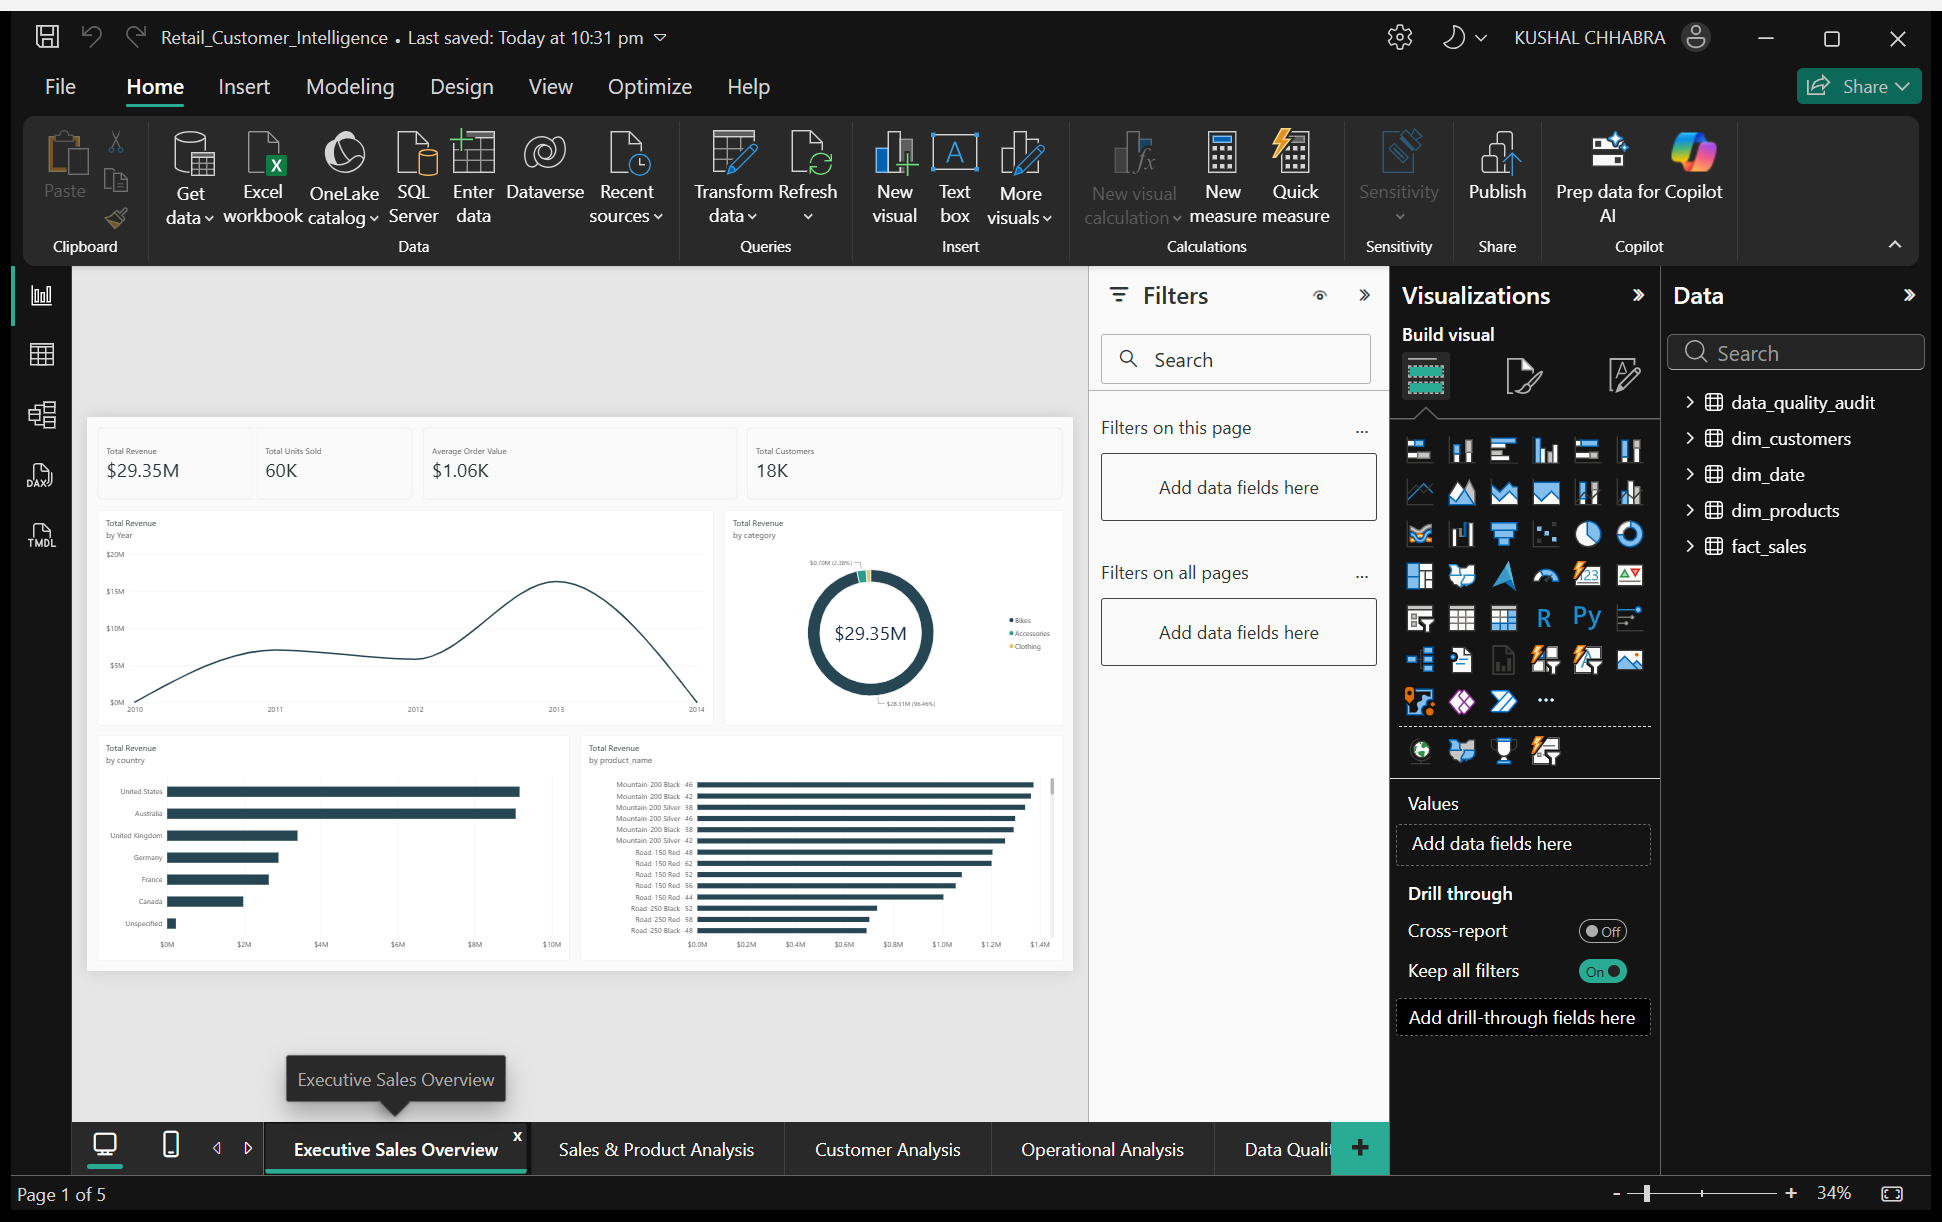

The page's visual inventory and layout, read from the dashboard file:
{"tool":"powerbi","page":{"name":"Executive Sales Overview","canvas":[1920,1080],"ordinal":0},"visuals":[{"type":"cardVisual","fields":{"Data":["fact_sales.Total Revenue","fact_sales.Total Units Sold"]},"box":[20,20,613,140],"z":0},{"type":"cardVisual","fields":{"Data":["fact_sales.Average Order Value"]},"box":[653,20,613,140],"z":1},{"type":"cardVisual","fields":{"Data":["fact_sales.Total Customers"]},"box":[1286,20,614,140],"z":2},{"type":"lineChart","fields":{"Category":["fact_sales.order_date.Variation.Date Hierarchy.Year","fact_sales.order_date.Variation.Date Hierarchy.Quarter","fact_sales.order_date.Variation.Date Hierarchy.Month","fact_sales.order_date.Variation.Date Hierarchy.Day"],"Y":["fact_sales.Total Revenue"]},"box":[20,180,1200,420],"z":3},{"type":"donutChart","fields":{"Category":["dim_products.category"],"Y":["fact_sales.Total Revenue"]},"box":[1240,180,660,420],"z":4},{"type":"barChart","fields":{"Category":["dim_customers.country"],"Y":["fact_sales.Total Revenue"]},"box":[20,620,920,440],"z":5},{"type":"barChart","fields":{"Category":["dim_products.product_name"],"Y":["fact_sales.Total Revenue"]},"box":[960,620,940,440],"z":6}]}

Visuals, with their boxes on the page's 1920x1080 design canvas (x1, y1, x2, y2). These are canvas units, not pixel positions in the 1942x1222 screenshot, which may show the page scaled, cropped or inside an application window:
cardVisual - fact_sales.Total Revenue x fact_sales.Total Units Sold: Rect(20, 20, 633, 160)
cardVisual - fact_sales.Average Order Value: Rect(653, 20, 1266, 160)
cardVisual - fact_sales.Total Customers: Rect(1286, 20, 1900, 160)
lineChart - fact_sales.order_date.Variation.Date Hierarchy.Year x fact_sales.order_date.Variation.Date Hierarchy.Quarter: Rect(20, 180, 1220, 600)
donutChart - dim_products.category x fact_sales.Total Revenue: Rect(1240, 180, 1900, 600)
barChart - dim_customers.country x fact_sales.Total Revenue: Rect(20, 620, 940, 1060)
barChart - dim_products.product_name x fact_sales.Total Revenue: Rect(960, 620, 1900, 1060)
